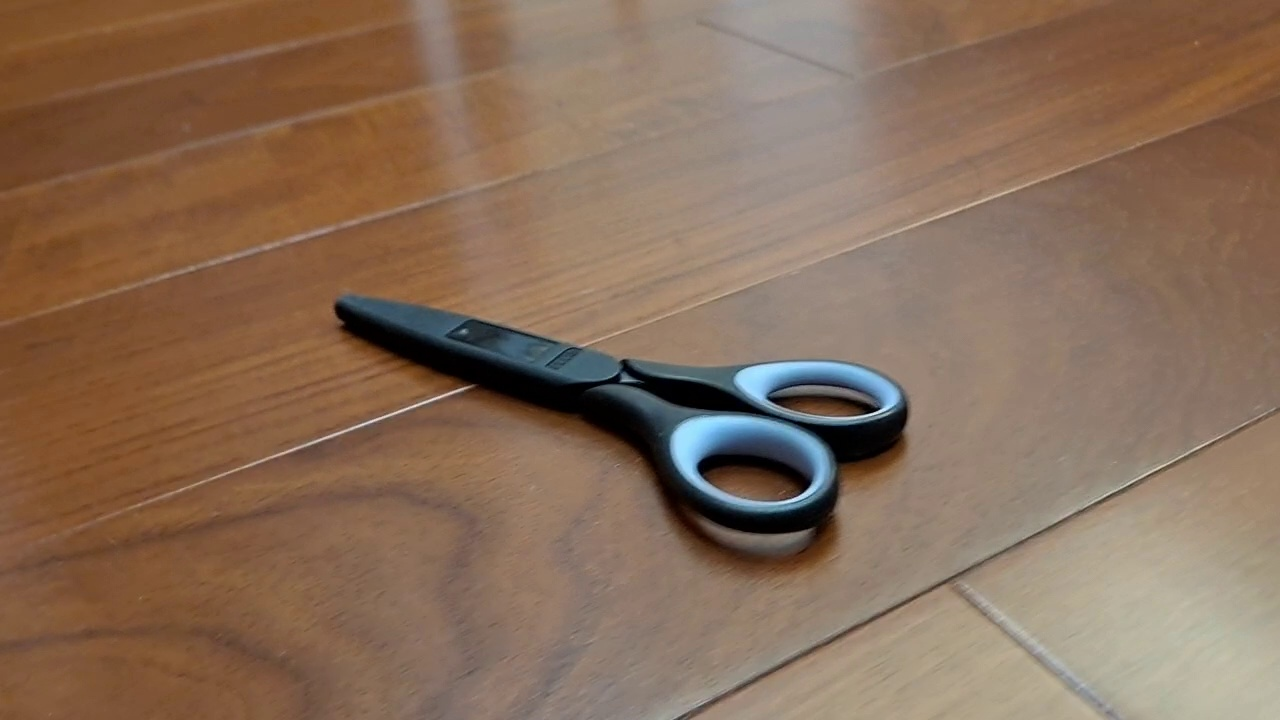scissors: (332, 292, 911, 537)
